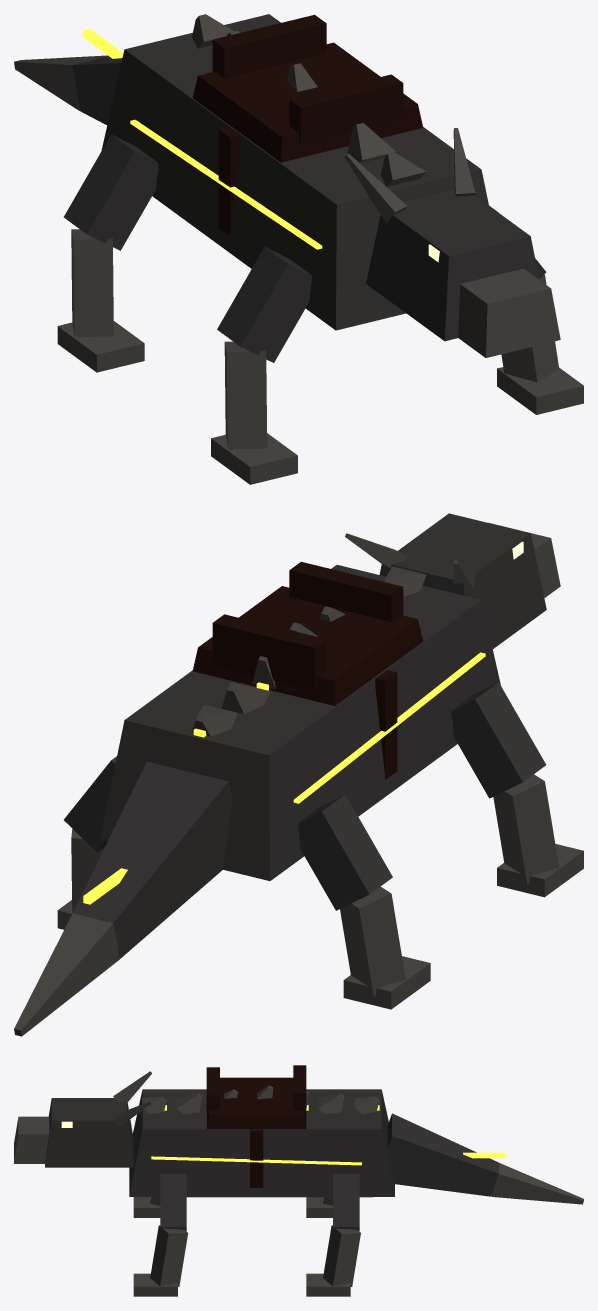
The model's file is Montaria_LagartoBasalto.fbx.
3 renders of one model, top to bottom at view 1: azimuth 30°, elevation 25°; view 2: azimuth 150°, elevation 25°; view 3: azimuth 270°, elevation 25°, orthographic. The views are drawn at different scales.
Visible parts, largest first — view 1: Body, Head, Leg3, Leg1, Tail, Leg0; view 2: Body, Tail, Leg3, Leg1, Head, Leg2; view 3: Body, Head, Tail, Leg0, Leg2, Leg1, Leg3.
Part boxes in pixels (<box>): Body: <box>101,14,488,330</box>; Head: <box>345,128,560,357</box>; Leg3: <box>57,134,158,372</box>; Leg1: <box>211,247,311,484</box>; Tail: <box>14,29,123,124</box>; Leg0: <box>489,205,583,414</box>; Body: <box>100,561,500,880</box>; Tail: <box>14,761,232,1036</box>; Leg3: <box>298,794,430,1009</box>; Leg1: <box>451,682,583,897</box>; Head: <box>345,513,560,648</box>; Leg2: <box>57,756,116,929</box>; Body: <box>129,1065,394,1197</box>; Head: <box>14,1071,152,1167</box>; Tail: <box>387,1113,583,1204</box>; Leg0: <box>133,1173,187,1296</box>; Leg2: <box>306,1173,360,1296</box>; Leg1: <box>133,1197,160,1217</box>; Leg3: <box>306,1197,332,1217</box>.
Size of the model in its own units: 0.98 by 0.855 by 2.57.
